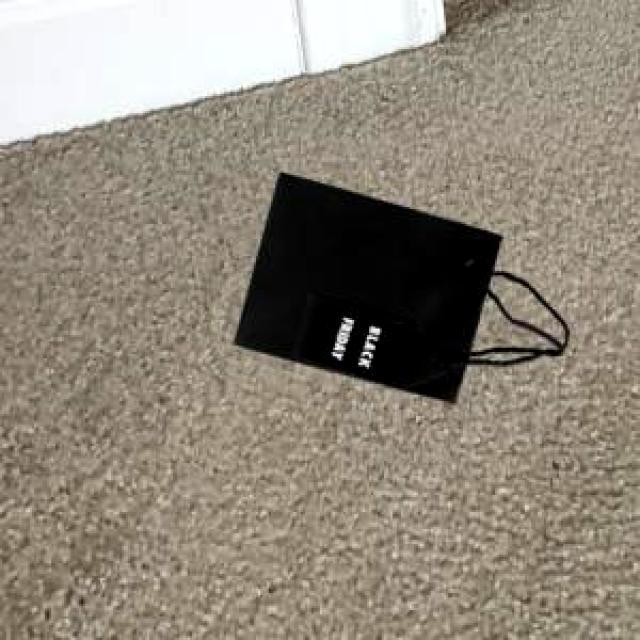Paper_Bag: (232, 170, 566, 400)
